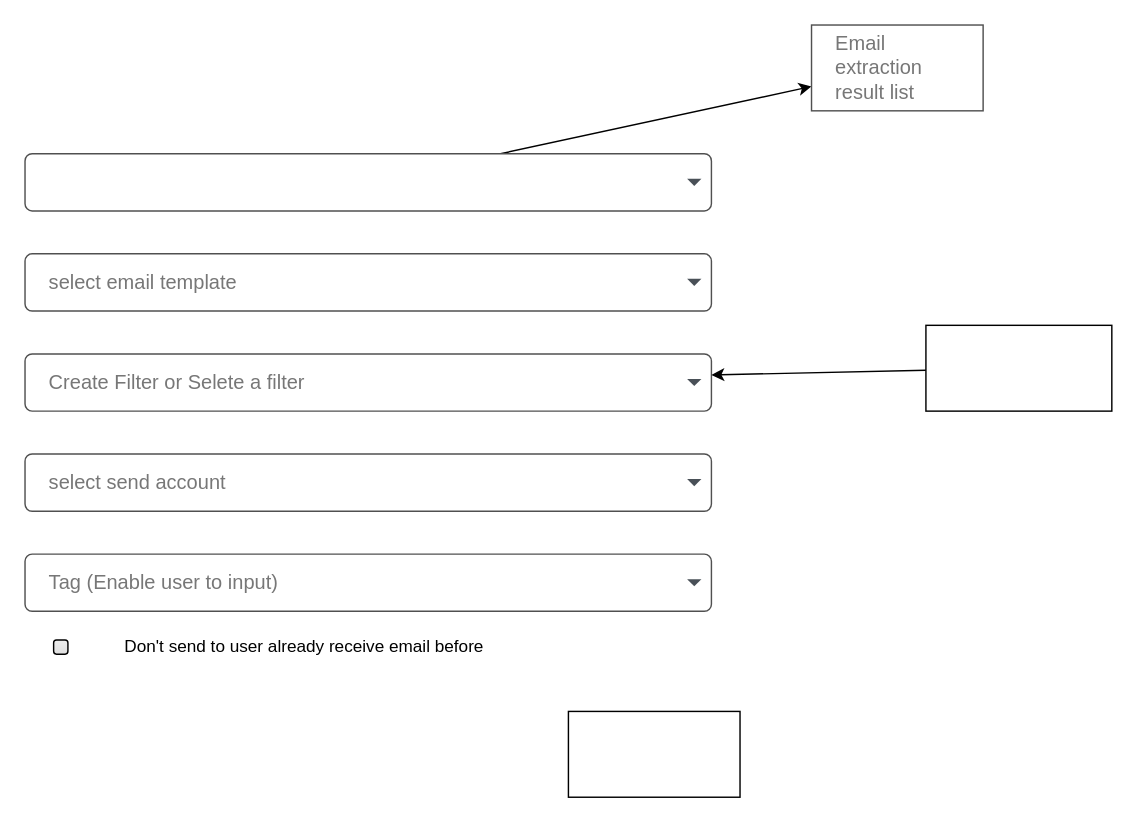
Image size: 1137x822. Some labels were removed from this diagram. Here are the shapes that lost their labels. From the top down, the centre of each, then its label:
At pixel 367 181: "marketing type".
At pixel 1018 367: "receive's email address will be auto add into filter after send".
At pixel 653 753: "Start Send".
